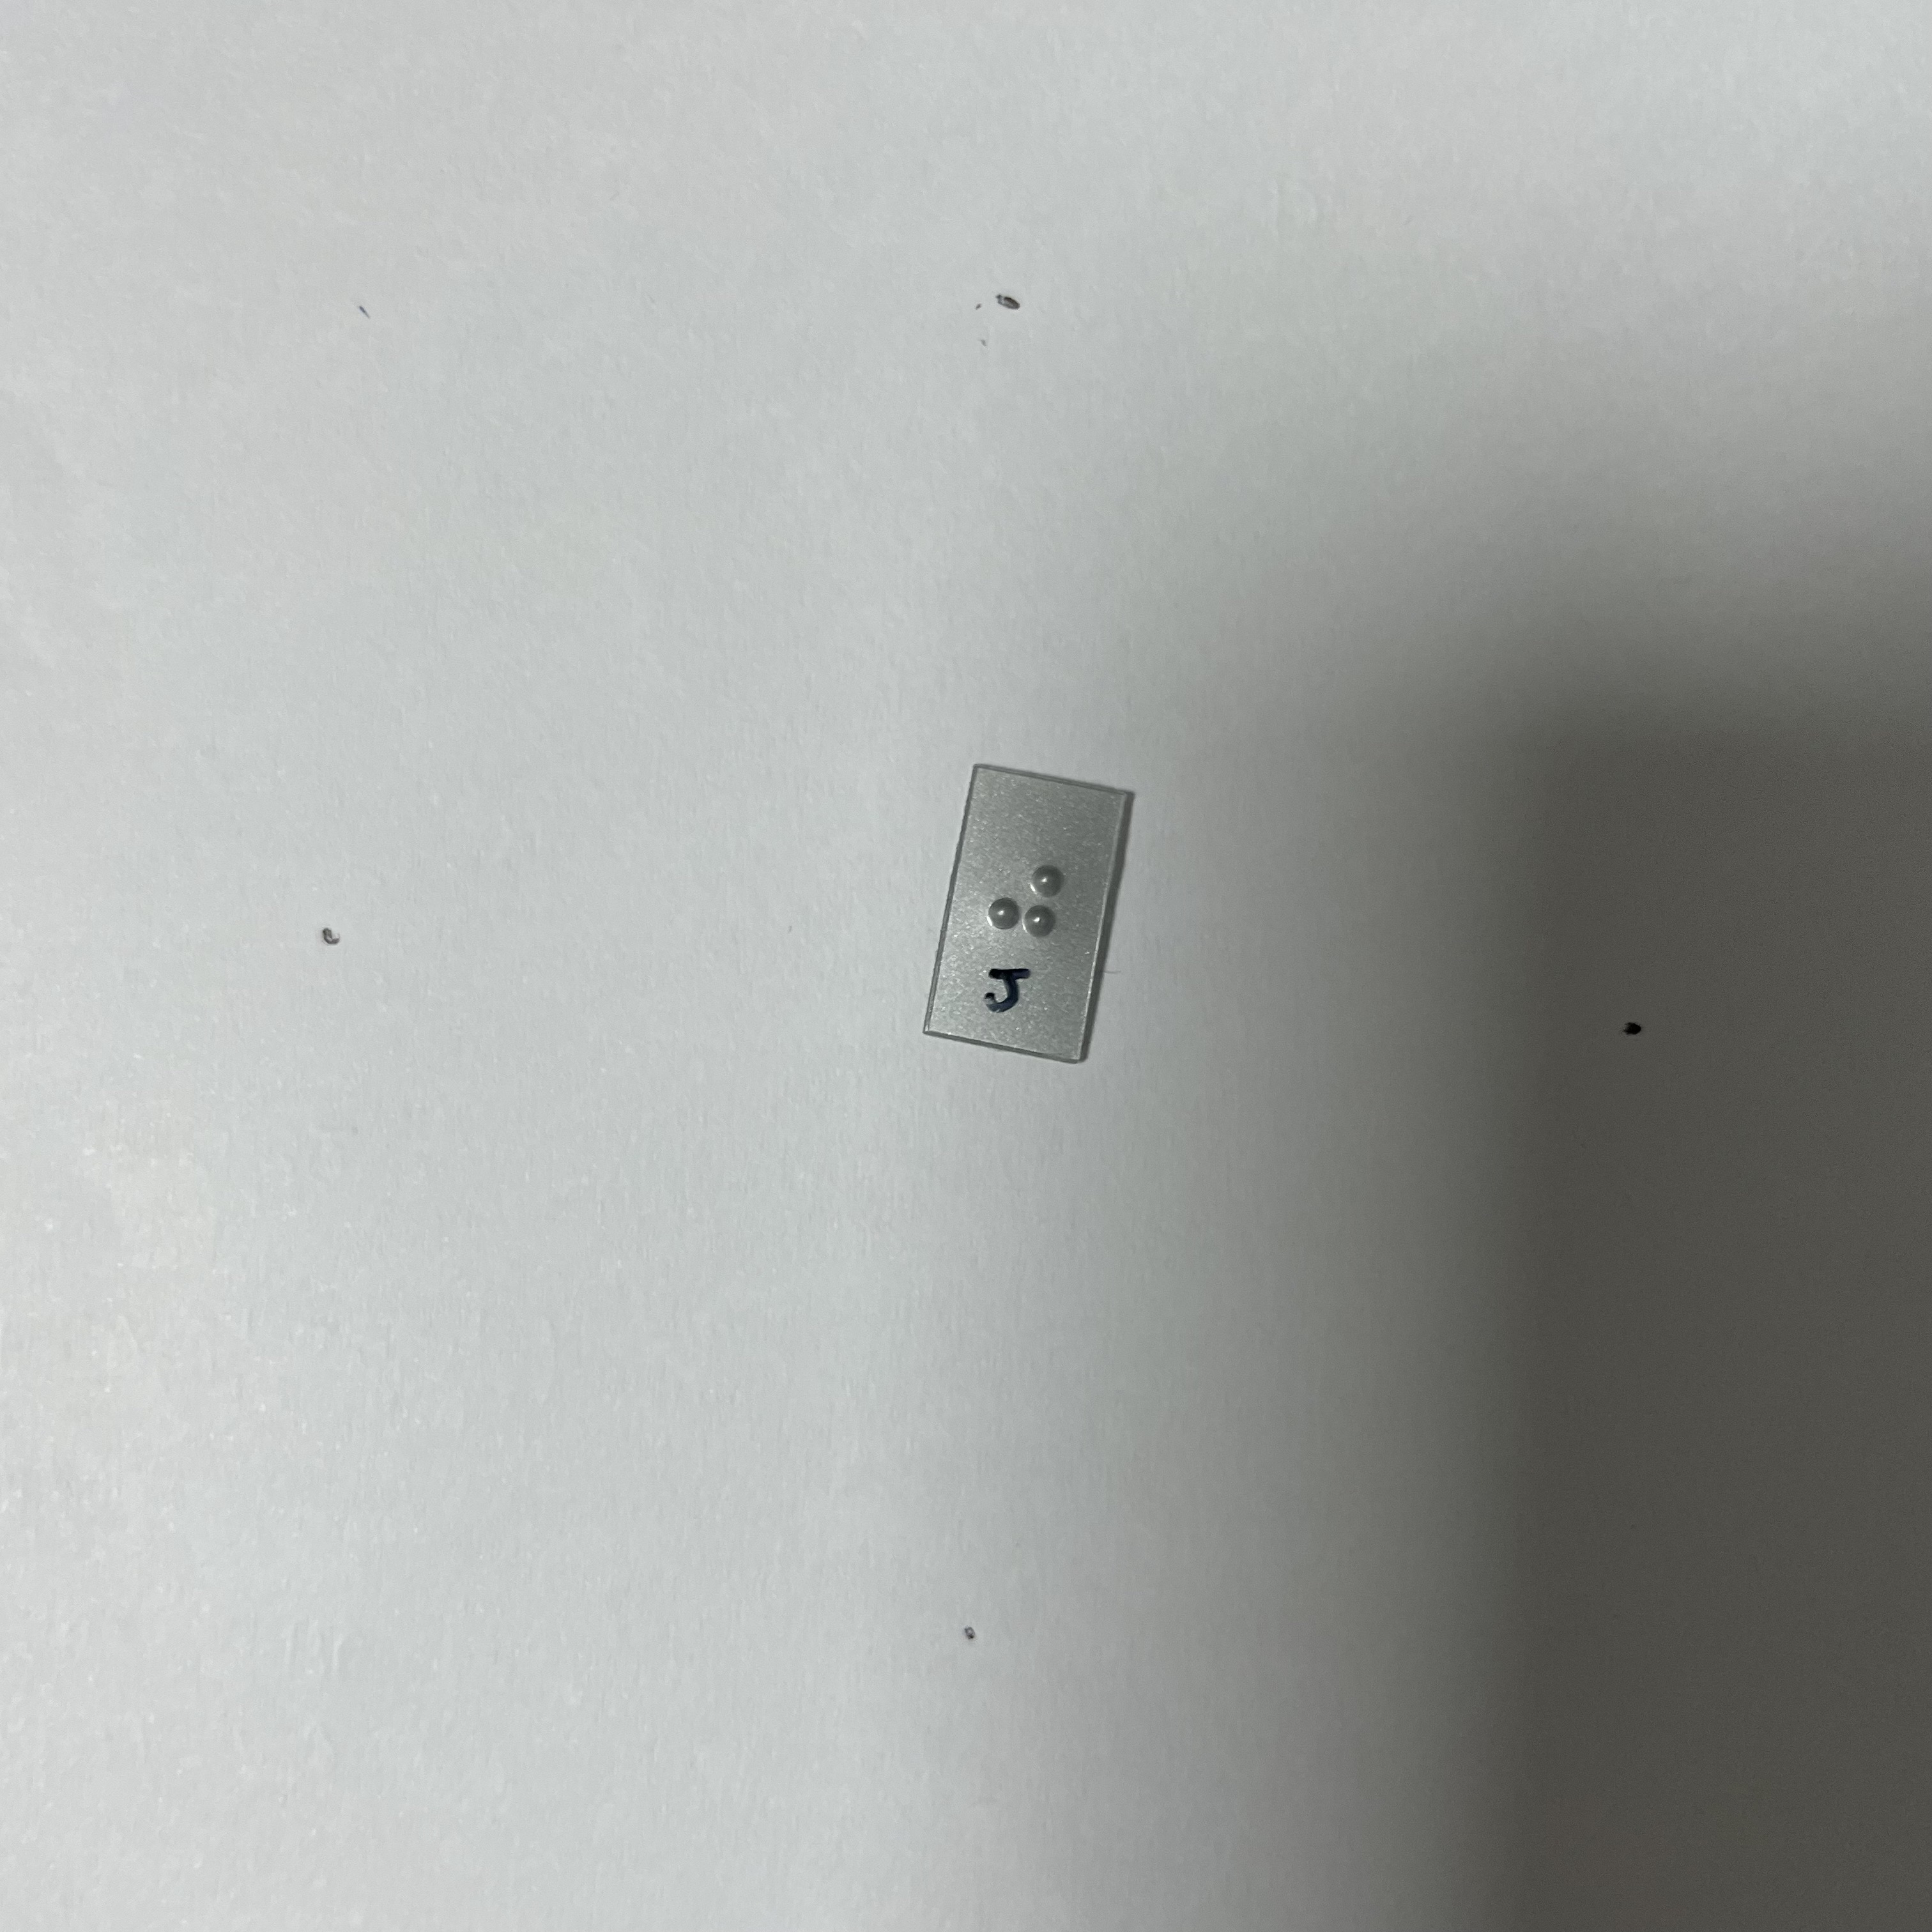j: (982, 836, 1077, 975)
